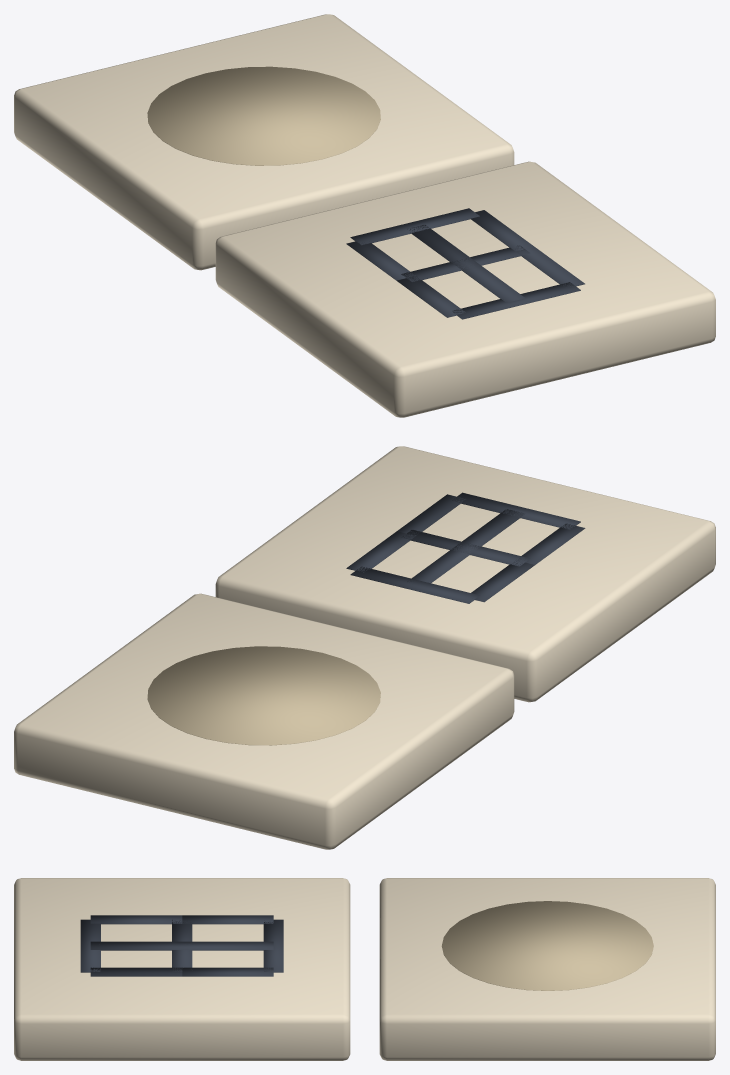
File: plinth.glb
3 views of the same model, one above another, from view 1: azimuth 30°, elevation 25°; view 2: azimuth 150°, elevation 25°; view 3: azimuth 270°, elevation 25° (orthographic). The views are drawn at different scales.
Visible parts, largest first — view 1: Plinth_Body, Plinth_Well, Plinth_Num_2, Plinth_Num_1, Plinth_Num_4, Plinth_Num_3; view 2: Plinth_Body, Plinth_Well, Plinth_Num_2, Plinth_Num_1, Plinth_Num_3, Plinth_Num_4; view 3: Plinth_Body, Plinth_Well, Plinth_Num_2, Plinth_Num_1, Plinth_Num_3, Plinth_Num_4.
Part boxes in pixels (x1,y1,x2,y2): Plinth_Body: [14, 14, 715, 417]; Plinth_Well: [147, 66, 380, 165]; Plinth_Num_2: [350, 208, 580, 319]; Plinth_Num_1: [407, 225, 525, 302]; Plinth_Num_4: [346, 241, 415, 280]; Plinth_Num_3: [516, 247, 584, 287]; Plinth_Body: [14, 446, 715, 849]; Plinth_Well: [147, 646, 380, 745]; Plinth_Num_2: [346, 492, 585, 603]; Plinth_Num_1: [407, 509, 525, 583]; Plinth_Num_3: [397, 494, 465, 535]; Plinth_Num_4: [471, 561, 534, 602]; Plinth_Body: [14, 878, 715, 1060]; Plinth_Well: [441, 901, 653, 990]; Plinth_Num_2: [80, 915, 283, 976]; Plinth_Num_1: [90, 941, 273, 950]; Plinth_Num_3: [90, 967, 182, 976]; Plinth_Num_4: [182, 915, 273, 924].
Size of the model in its own units: 0.92 by 0.1415 by 1.92.
